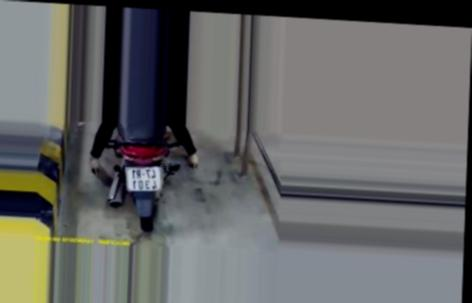License_Plate: (122, 161, 166, 197)
